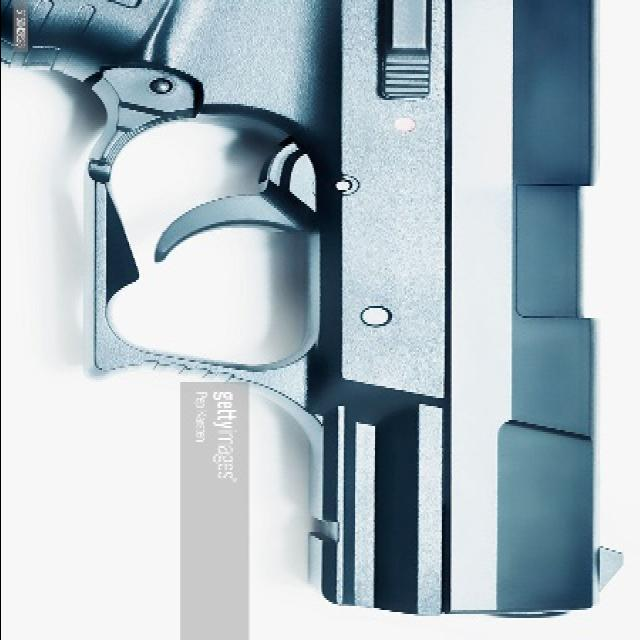handgun: (4, 1, 627, 621)
